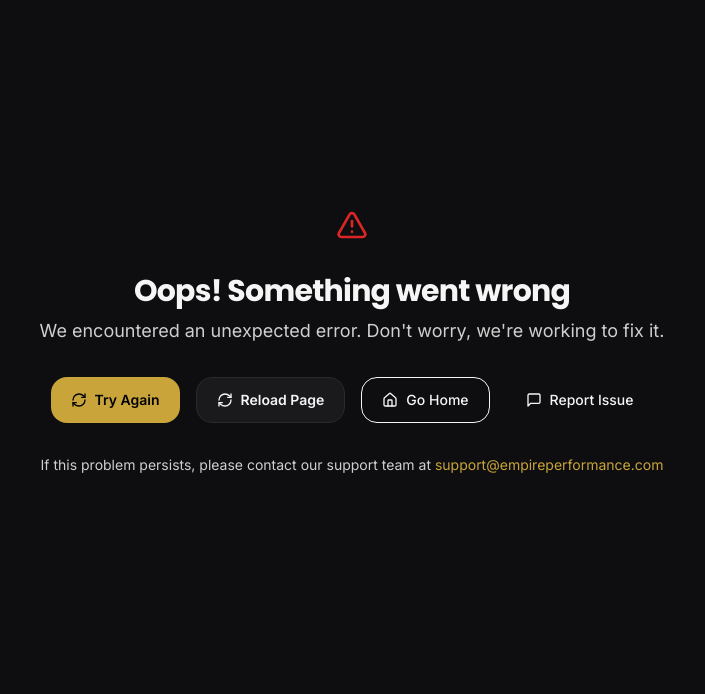
Test: ErrorBoundary Component › User Feedback System › should show feedback form when Report Issue is clicked
What coordinates should you click on to do the following:
click the button "Report Issue"
I would click on:
 (580, 400)
Its box is [506,377,654,423].
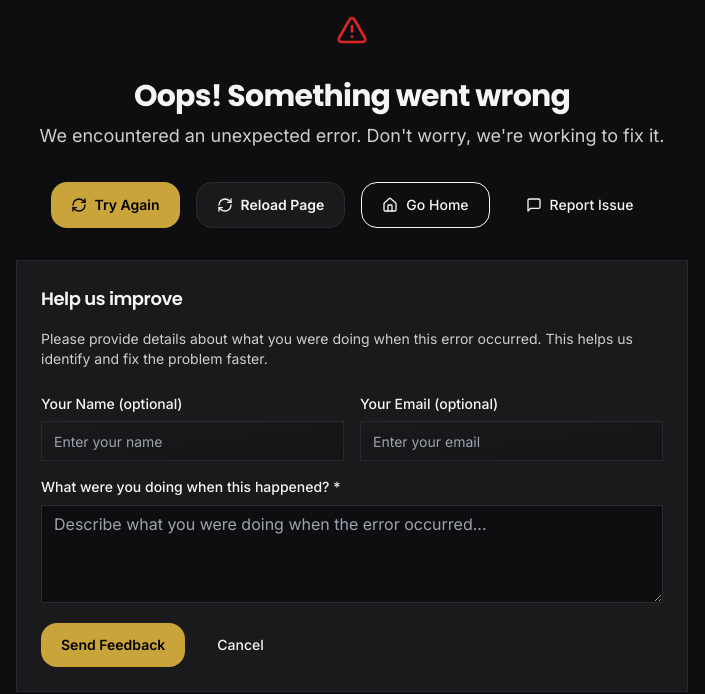
Expected: the heading "Help us improve" is shown, [41,286,182,311]
Expected: the field labelled "Your Name (optional)" is shown, [41,421,344,461]
Expected: the field labelled "Your Email (optional)" is shown, [360,421,663,461]
